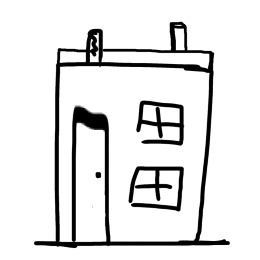chimney: (83, 23, 114, 71), (165, 10, 195, 56)
closed_window: (126, 161, 189, 213), (131, 93, 187, 146)
door: (68, 101, 121, 250)
roof: (41, 36, 233, 80)
wall: (49, 74, 219, 249)
